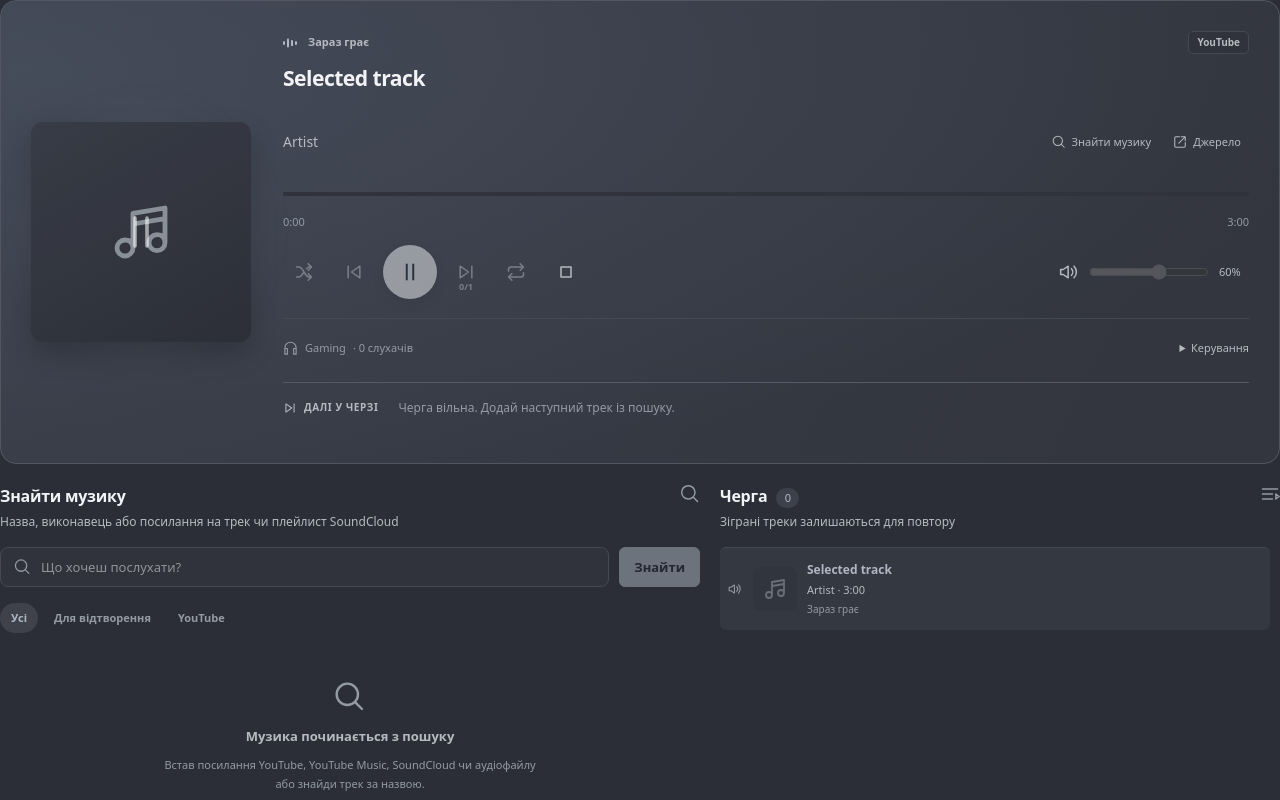
Test: Media catalog search feedback › replaces the idle heading cleanly when a track starts and returns to idle without duplicate React keys
expect the heading "Selected track" is shown: met, box x1=283 y1=63 x2=425 y2=92
expect the heading "Що слухаємо сьогодні?" is not shown: met
Click the button named "Зупинити сесію": (566, 272) x1=545 y1=251 x2=587 y2=293
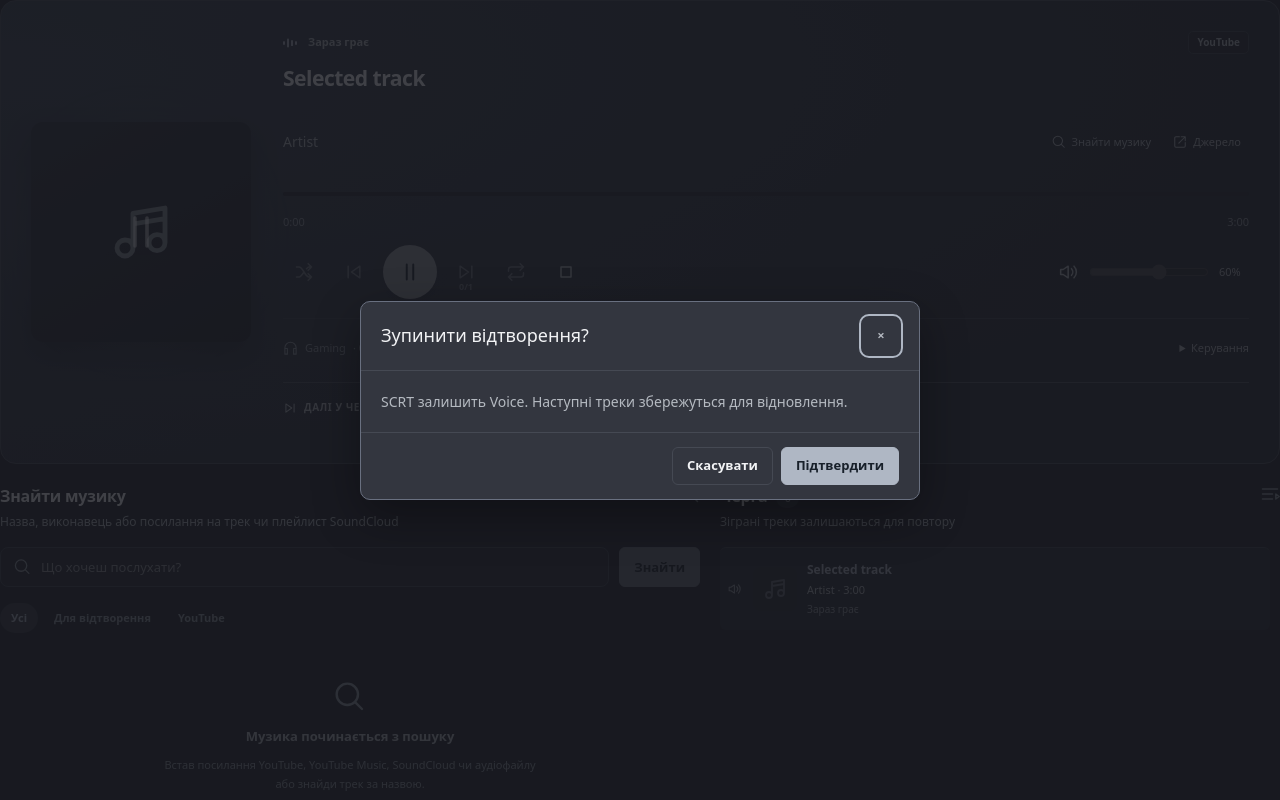
Click the button "Підтвердити": (840, 466) x1=781 y1=446 x2=899 y2=484
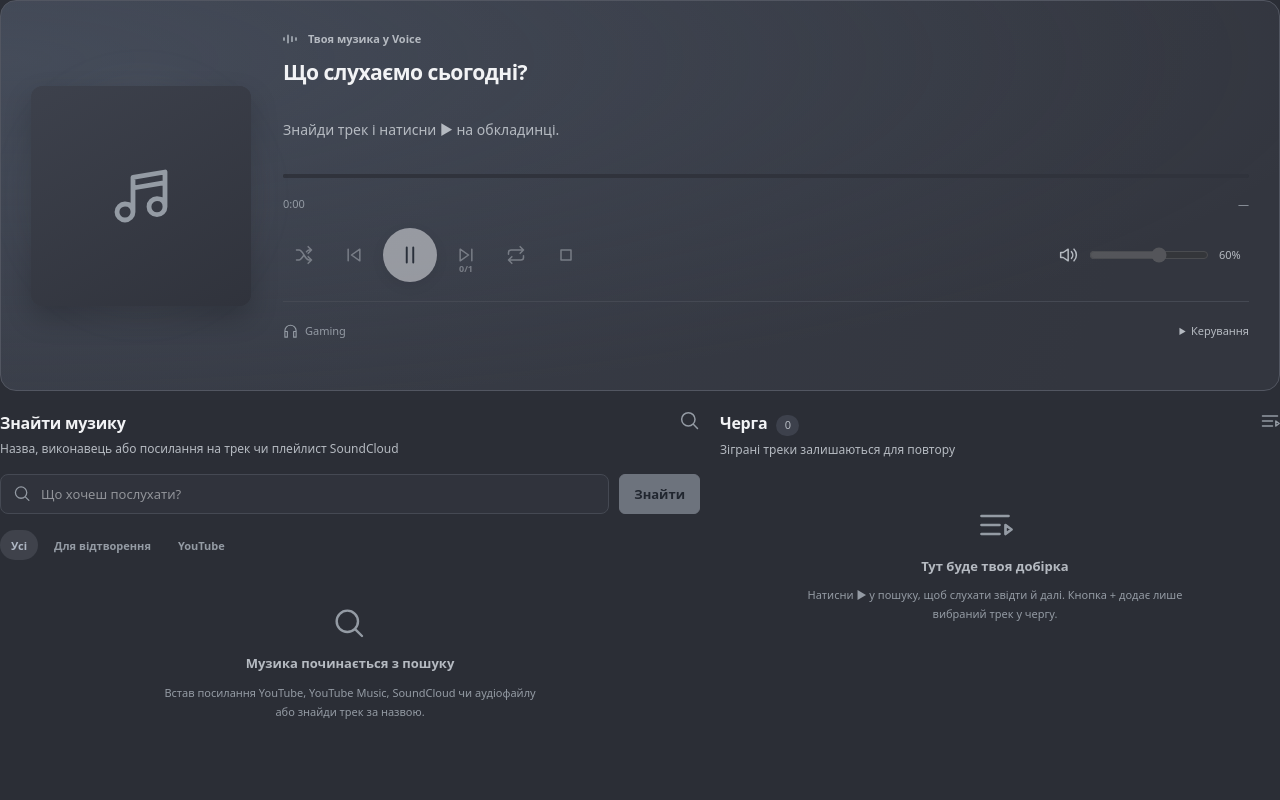
expect the heading "Що слухаємо сьогодні?" is shown: met, box x1=283 y1=56 x2=527 y2=86
expect the heading "Selected track" is gone: met
